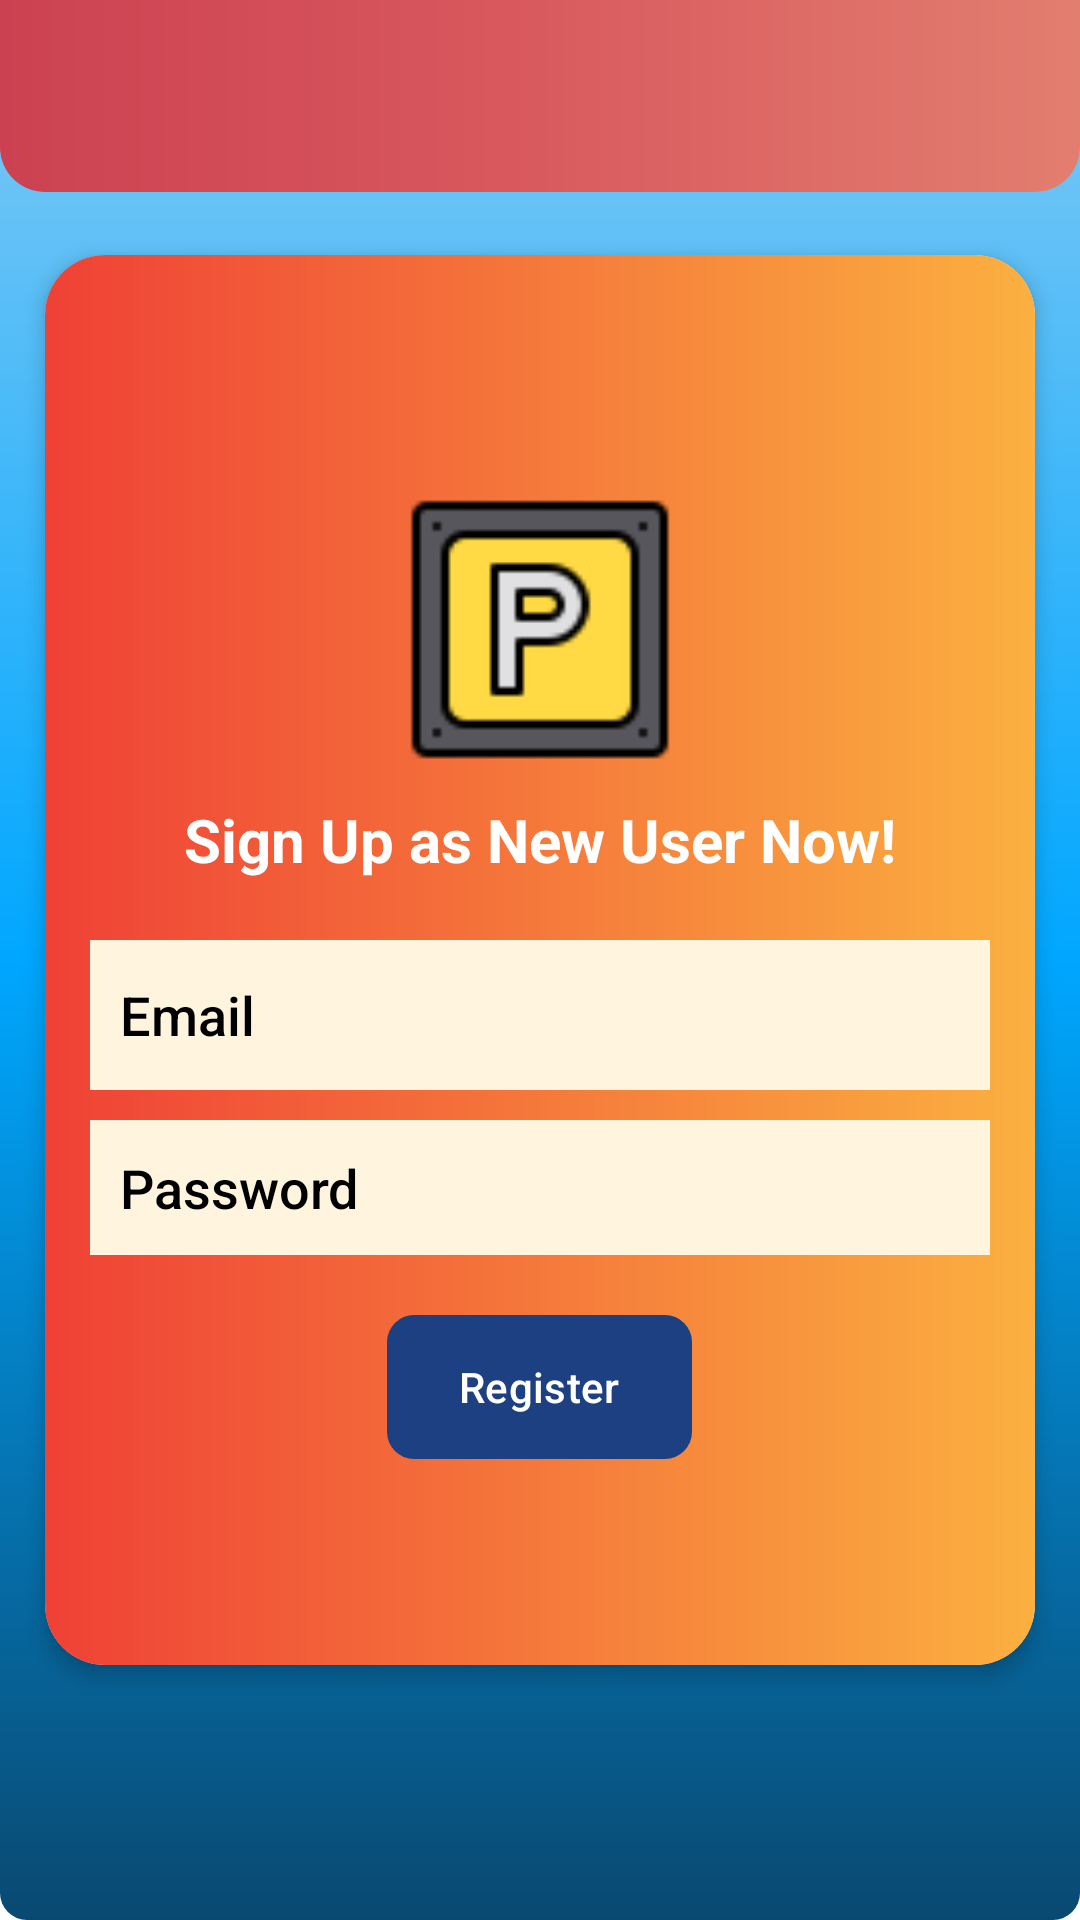

Where to tap for icons on this 1080x1920 app screen, as [x,y]:
parkng: [541,629]
